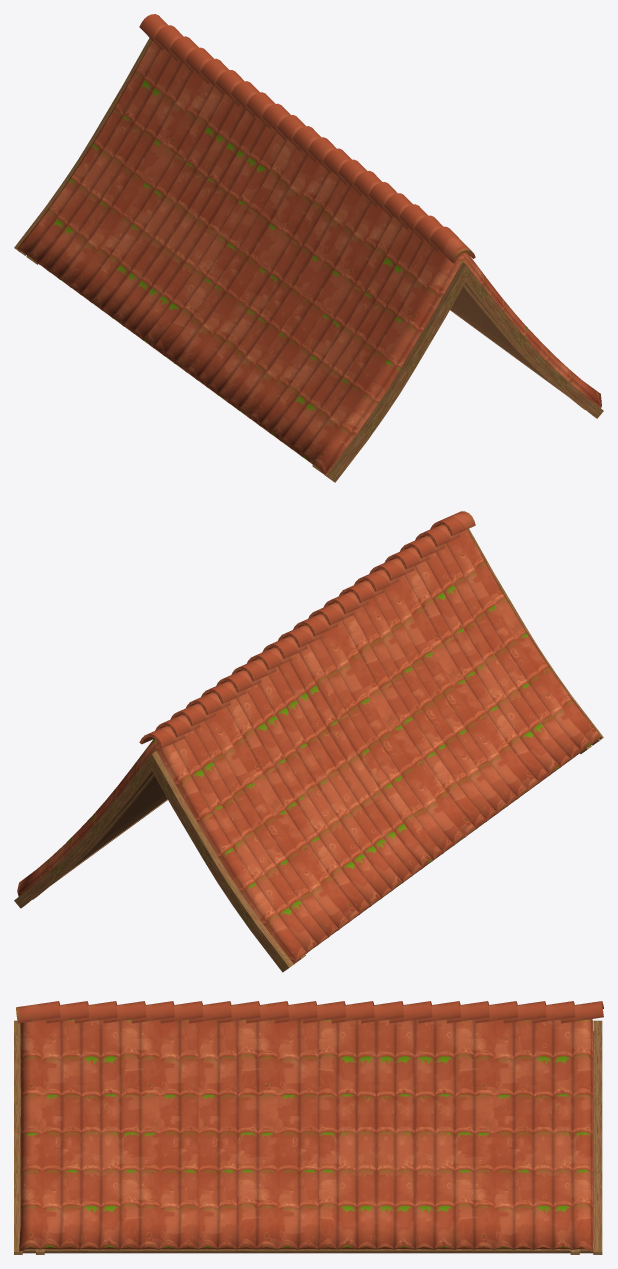
File: Roof_RoundTiles_6x14.glb
The picture shows the model from 3 angles, top to bottom: view 1: azimuth 30°, elevation 25°; view 2: azimuth 150°, elevation 25°; view 3: azimuth 270°, elevation 25°; orthographic projection. The views are drawn at different scales.
Parts seen in each view (by area): view 1: Roof_RoundTiles_6x14; view 2: Roof_RoundTiles_6x14; view 3: Roof_RoundTiles_6x14.
Part boxes in pixels (box(x1,y1,x2,y2)): Roof_RoundTiles_6x14: box(14, 14, 603, 482); Roof_RoundTiles_6x14: box(14, 511, 603, 972); Roof_RoundTiles_6x14: box(14, 1001, 603, 1254).
Size of the model in its own units: 8.25 by 5.67 by 15.71.
Materials: 2 (2 with a texture image).
